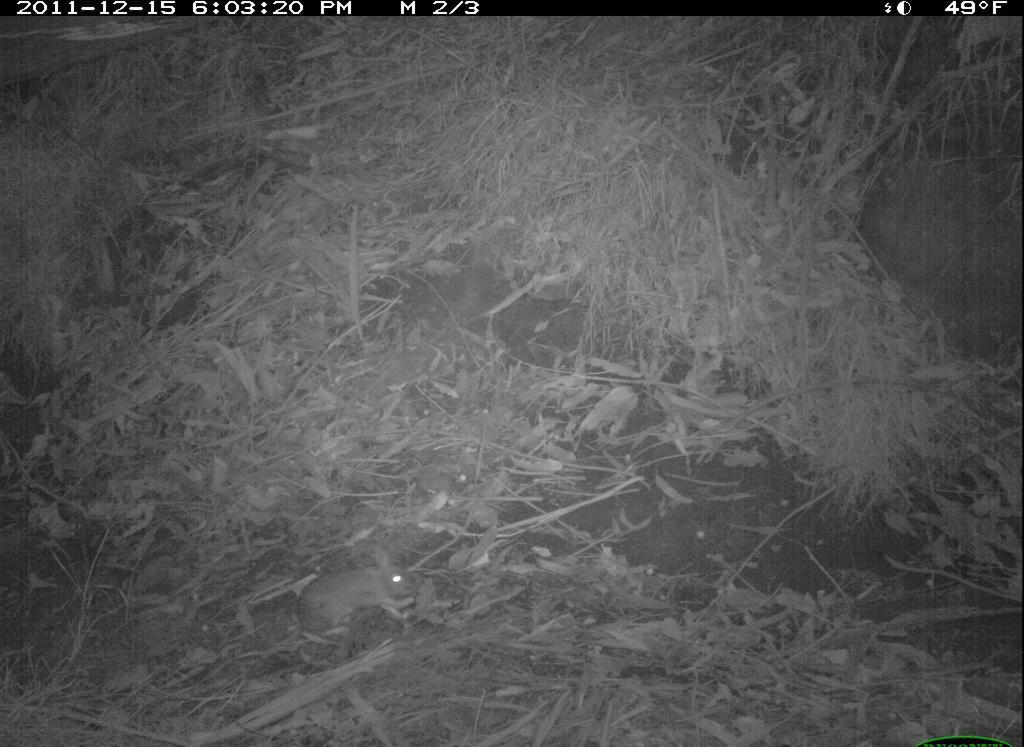rabbit: (273, 534, 449, 665)
